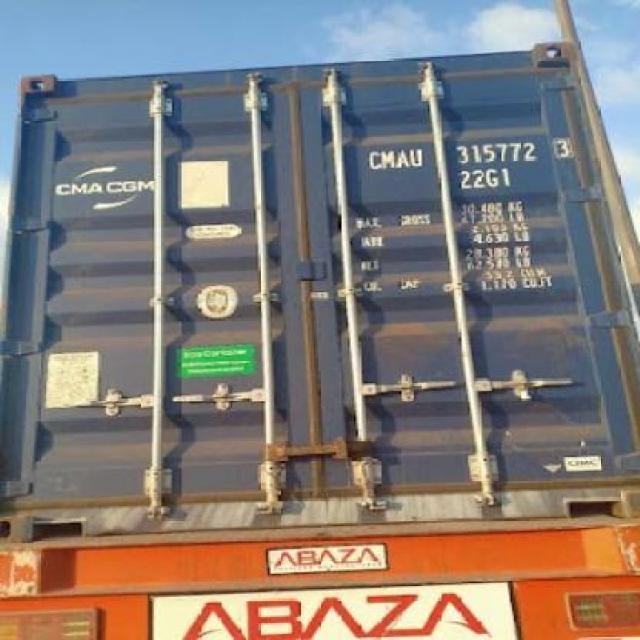ISO: (458, 167, 510, 191)
container_number: (372, 135, 570, 168)
